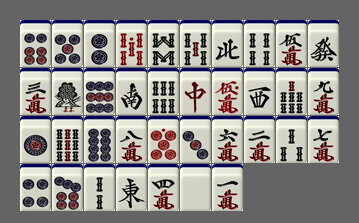0m: (212, 68, 243, 115)
0p: (148, 116, 179, 163)
0s: (116, 20, 147, 67)
1m: (212, 164, 243, 211)
1p: (20, 116, 51, 163)
1s: (52, 68, 83, 115)
1z: (116, 164, 147, 211)
2m: (244, 116, 275, 163)
2p: (84, 20, 115, 67)
2s: (84, 164, 115, 211)
2z: (116, 68, 147, 115)
3m: (20, 68, 51, 115)
3p: (180, 116, 211, 163)
3s: (276, 116, 307, 163)
3z: (244, 68, 275, 115)
4m: (148, 164, 179, 211)
4p: (20, 164, 51, 211)
4s: (244, 20, 275, 67)
4z: (212, 20, 243, 67)
5m: (276, 20, 307, 67)
5p: (52, 20, 83, 67)
5s: (180, 20, 211, 67)
5z: (180, 164, 211, 211)
6m: (212, 116, 243, 163)
6p: (20, 20, 51, 67)
6s: (148, 68, 179, 115)
6z: (308, 20, 339, 67)
7m: (308, 116, 339, 163)
7p: (52, 164, 83, 211)
7s: (276, 68, 307, 115)
7z: (180, 68, 211, 115)
8m: (116, 116, 147, 163)
8p: (84, 116, 115, 163)
8s: (148, 20, 179, 67)
9m: (308, 68, 339, 115)
9p: (84, 68, 115, 115)
9s: (52, 116, 83, 163)
